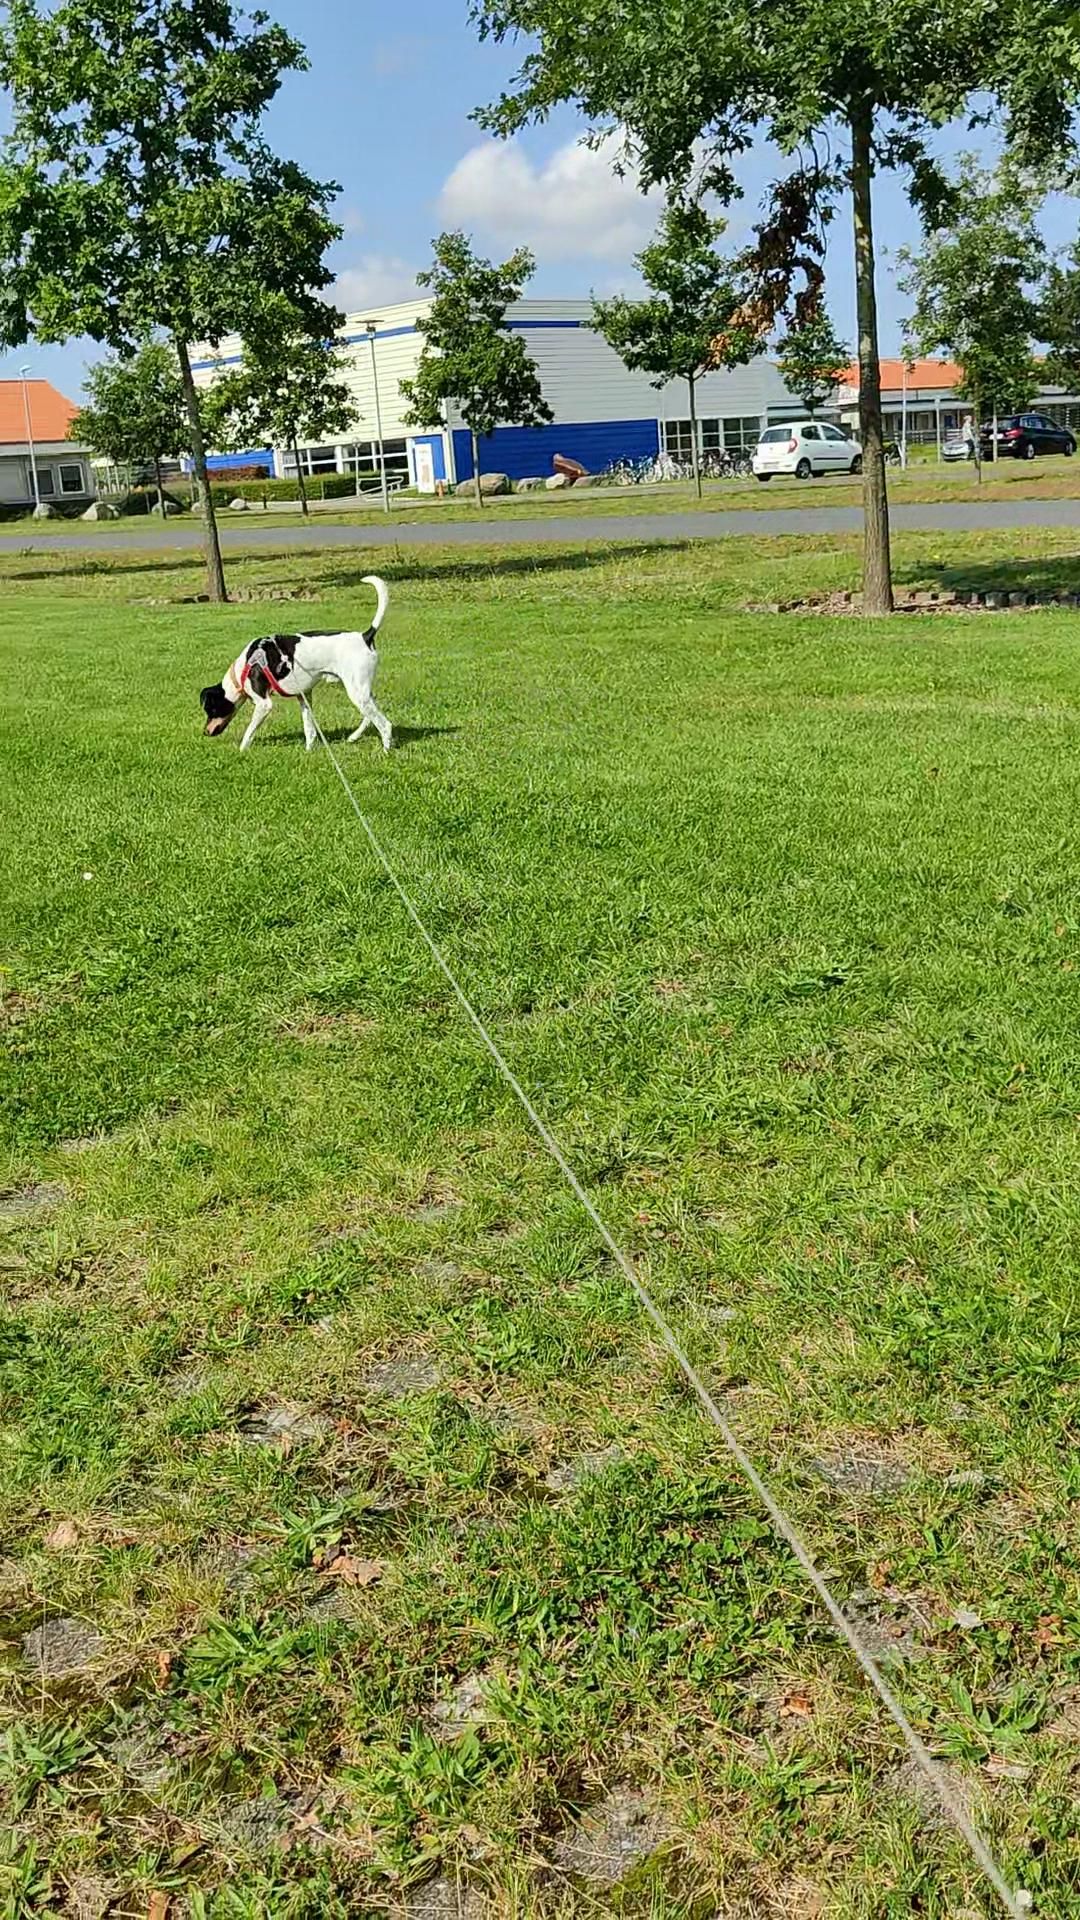Dog: (196, 574, 396, 756)
